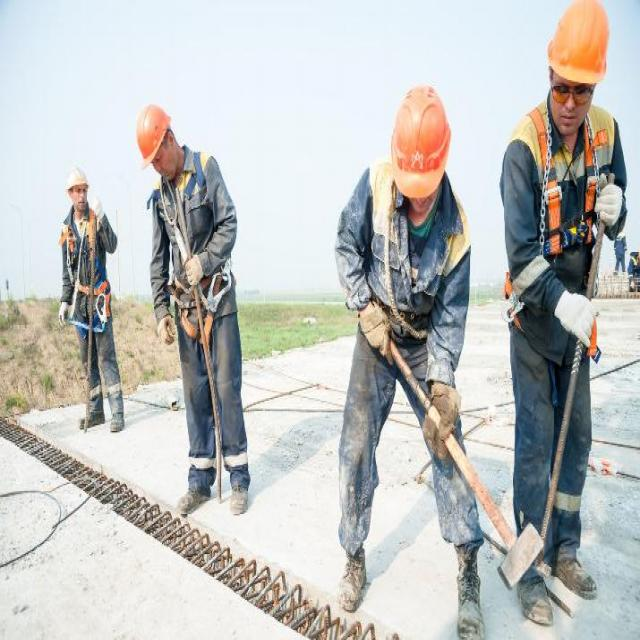Reflective-Jacket: (348, 172, 473, 354), (504, 103, 625, 274), (59, 205, 115, 326)
Safety-Helmet: (388, 76, 452, 197), (544, 1, 612, 89), (128, 99, 175, 167), (62, 158, 92, 198)
